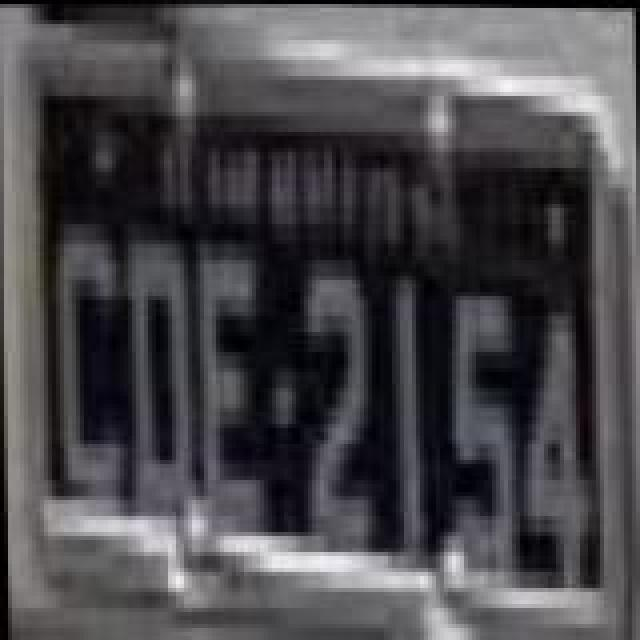1: (390, 276, 426, 552)
2: (302, 260, 378, 548)
4: (518, 306, 594, 594)
5: (446, 284, 514, 572)
C: (54, 228, 126, 504)
D: (130, 236, 198, 524)
E: (194, 240, 262, 536)
